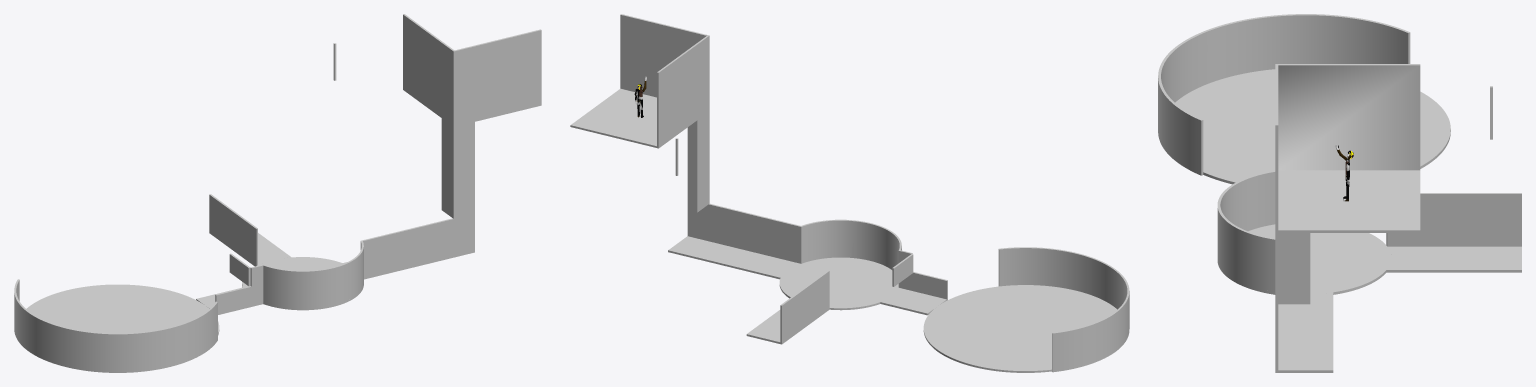
Rendered from LevelExport.fbx.
3 renders of one model, left to right at view 1: azimuth 30°, elevation 25°; view 2: azimuth 150°, elevation 25°; view 3: azimuth 270°, elevation 25°, orthographic. The views are drawn at different scales.
Parts seen in each view (by area): view 1: MIso2(12).003, MIso2(11), MIso2(12), MIso2(3), MIso2(7), MIso2(12).004, MIso2(4), MIso2(12).002, MIso2(6), MIso2(10), MIso2(9), MIso2(8) (+1 smaller); view 2: MIso2(11), MIso2(12).003, MIso2(6), MIso2(12), MIso2(12).004, MIso2(7), MIso2(4), MIso2, MIso2(3), MIso2(5), MIso2(12).002, MIso2(10) (+2 smaller); view 3: MIso2(12).004, MIso2(12).003, MIso2(11), MIso2, MIso2(12).002, MIso2(7), MIso2(6), MIso2(5), MIso2(9), MIso2(3), MIso2(12), Cover (+1 smaller).
Part boxes in pixels (<box>): MIso2(12).003: <box>14,279,217,372</box>; MIso2(11): <box>26,284,219,335</box>; MIso2(12): <box>455,29,541,124</box>; MIso2(3): <box>441,118,474,255</box>; MIso2(7): <box>263,241,363,308</box>; MIso2(12).004: <box>403,14,453,123</box>; MIso2(4): <box>360,218,453,277</box>; MIso2(12).002: <box>209,194,257,265</box>; MIso2(6): <box>242,257,363,310</box>; MIso2(10): <box>196,286,251,314</box>; MIso2(9): <box>209,231,290,266</box>; MIso2(8): <box>232,264,264,306</box>; MIso2(11): <box>923,285,1117,372</box>; MIso2(12).003: <box>998,247,1129,372</box>; MIso2(6): <box>779,257,900,310</box>; MIso2(12): <box>620,14,707,97</box>; MIso2(12).004: <box>657,36,708,146</box>; MIso2(7): <box>801,219,901,269</box>; MIso2(4): <box>708,203,802,263</box>; MIso2: <box>570,88,709,148</box>; MIso2(3): <box>687,111,709,241</box>; MIso2(5): <box>668,236,798,279</box>; MIso2(12).002: <box>780,270,829,342</box>; MIso2(10): <box>892,272,947,315</box>; MIso2(12).004: <box>1278,64,1420,170</box>; MIso2(12).003: <box>1158,14,1410,175</box>; MIso2(11): <box>1175,69,1450,184</box>; MIso2: <box>1275,170,1420,232</box>; MIso2(12).002: <box>1386,193,1521,246</box>; MIso2(7): <box>1217,170,1275,291</box>; MIso2(6): <box>1217,224,1391,294</box>; MIso2(5): <box>1275,292,1333,372</box>; MIso2(9): <box>1386,246,1521,272</box>; MIso2(3): <box>1275,233,1310,370</box>; MIso2(12): <box>1275,65,1278,230</box>; Cover: <box>1278,170,1307,182</box>.
Size of the model in its own units: 2860 by 1120 by 1255.
